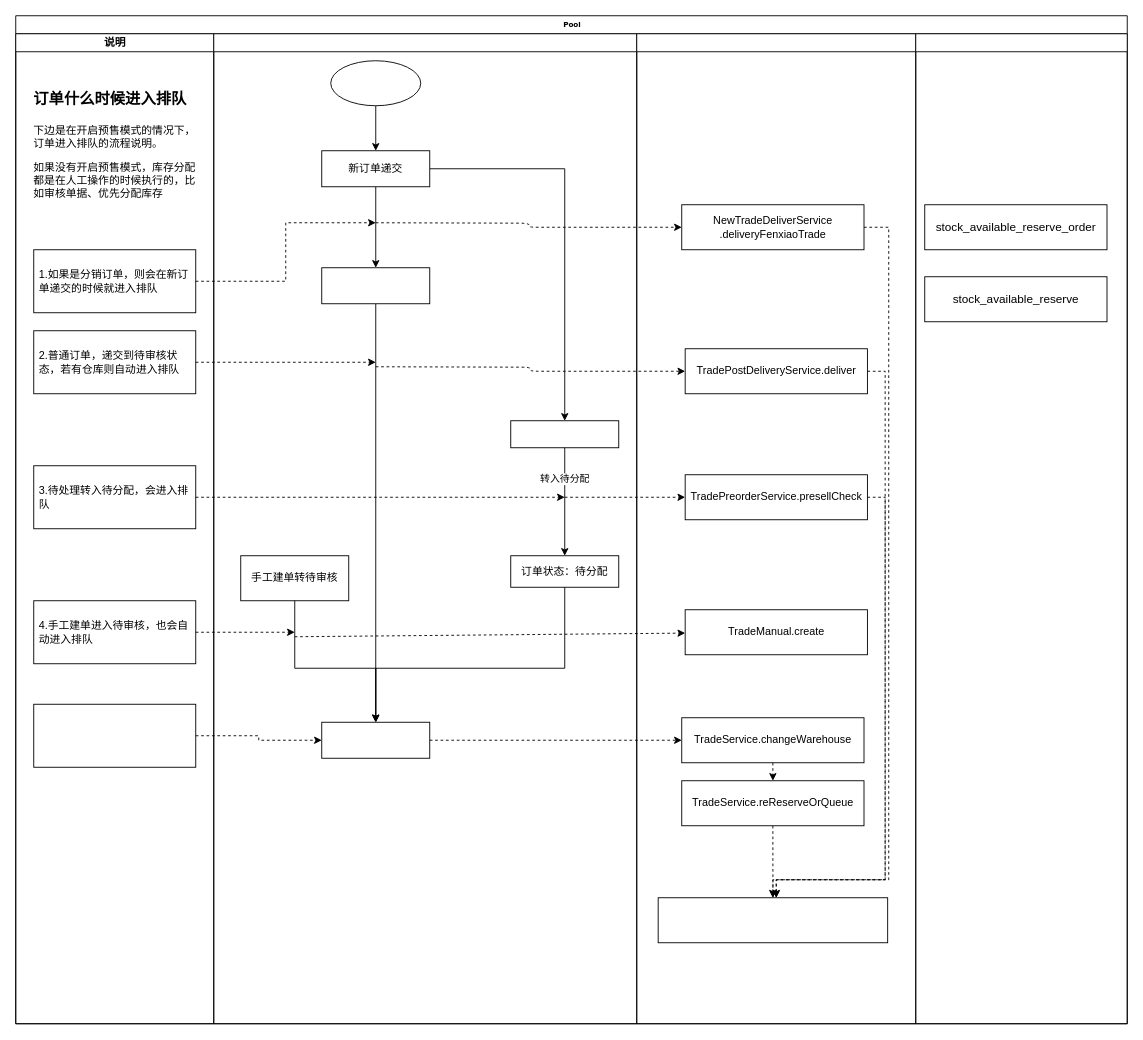
Some shapes in this 1143 by 1040 pixel diagram are drawn without their labels. Here are the shapes that lost their labels. From the top down, the box of each, then its label:
(330, 60, 421, 106): 预售模式下
(321, 267, 430, 304): 递交后处理
(510, 420, 619, 448): 订单状态：待处理
(213, 33, 637, 1024): 流程
(636, 33, 916, 1024): 关键方法
(915, 33, 1127, 1024): 关键表
(33, 703, 196, 767): 5.待审核订单修改仓库，若未排队，则进入库存占用排队
(321, 721, 430, 758): 订单状态：待审核
(657, 897, 888, 943): StockAvailableNumUtils.queueOrderReserve
